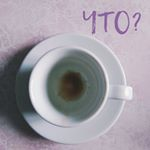cups: (27, 43, 137, 130)
